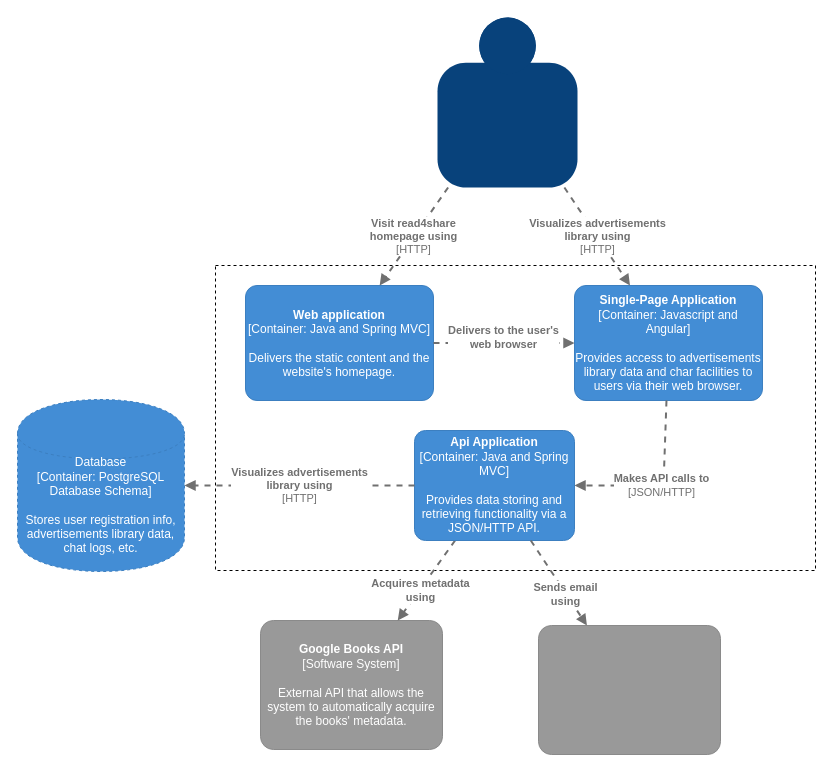
This 833x772 diagram has some shape labels left out. The box of each missing label's shape, as (x1, y1, x2, y2) in pixels:
E-mail System [Software System] External GMail system.: (538, 624, 720, 754)
Read4Share System [Software System]: (214, 264, 816, 570)
Viewer [Person] General user without an account or not logged in.: (437, 17, 577, 187)
